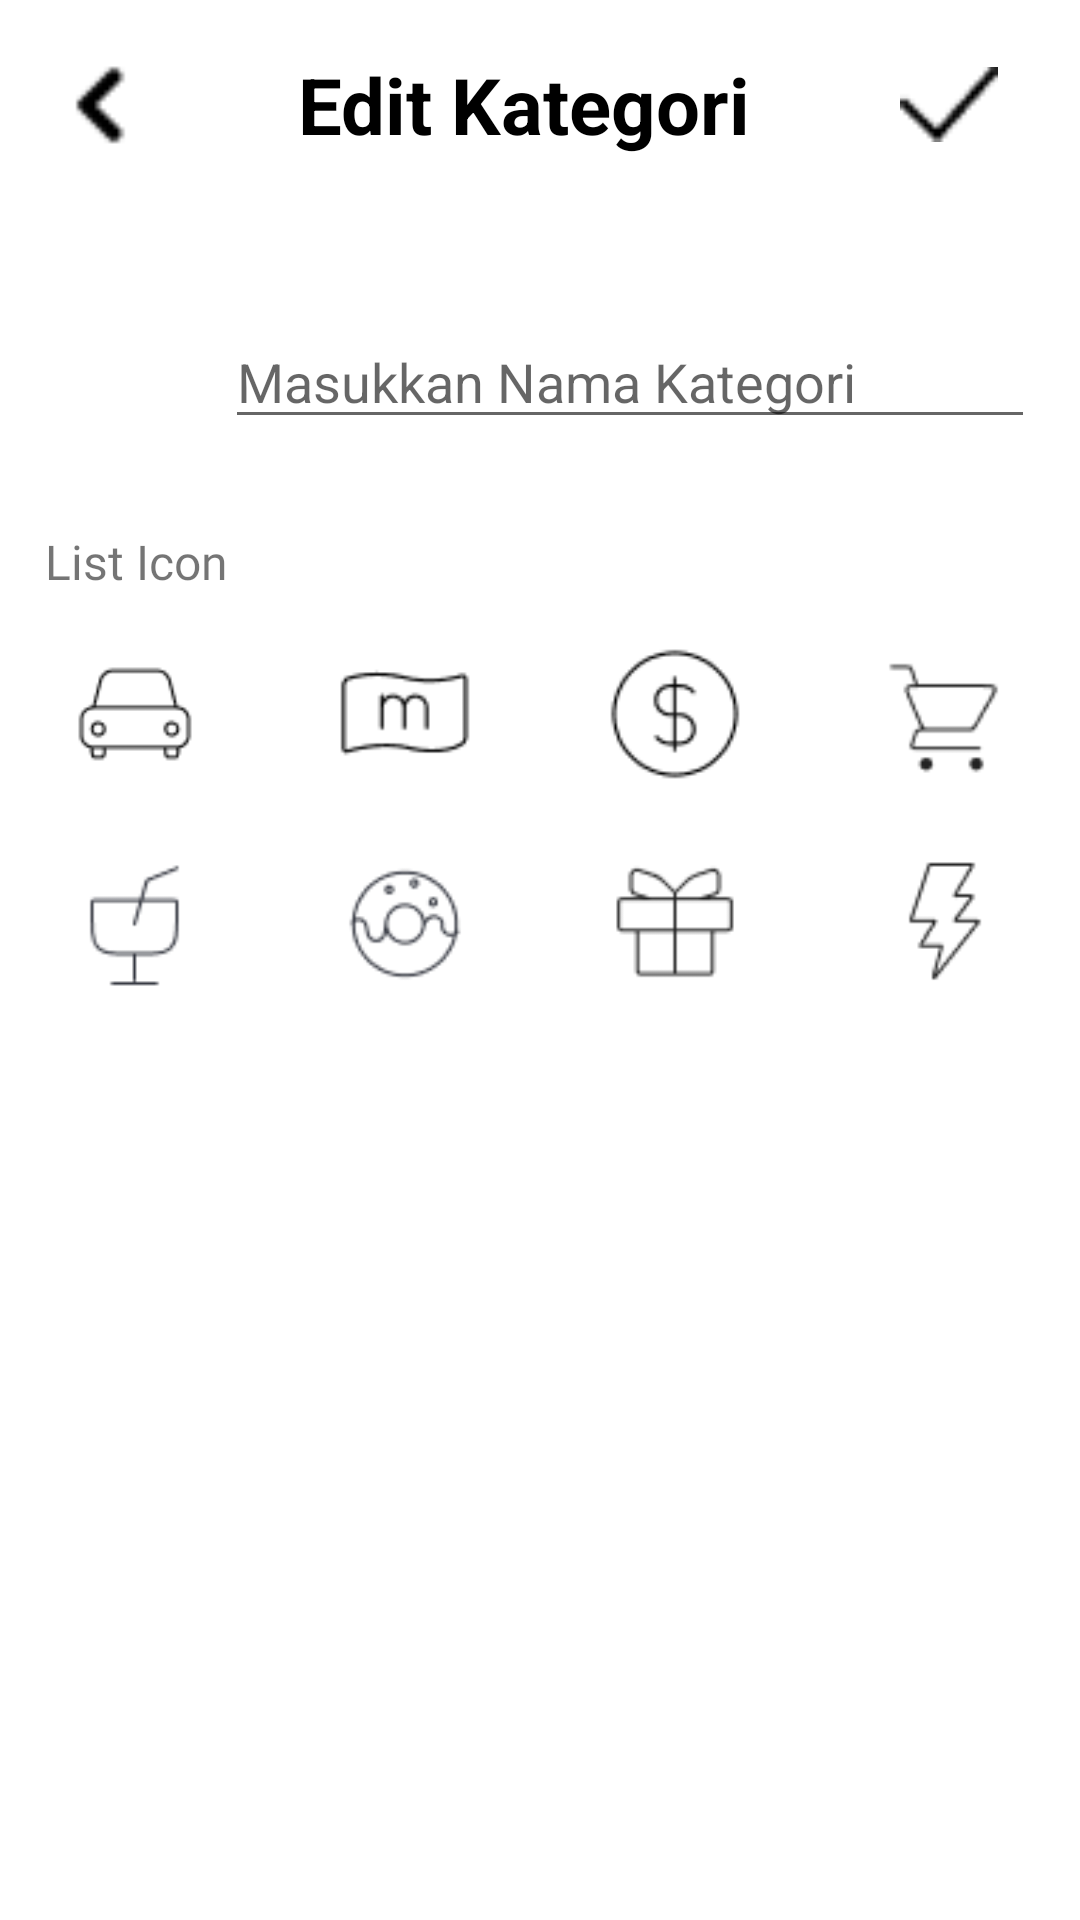

Named icons in this screenshot (1080 x 1920) and their centers, [x,y]:
belanja: [943,718]
gaji: [405,713]
hadiah: [675,922]
listrik: [945,921]
makanan: [405,924]
minuman: [134,925]
panah kiri: [100,105]
transportasi: [135,714]
